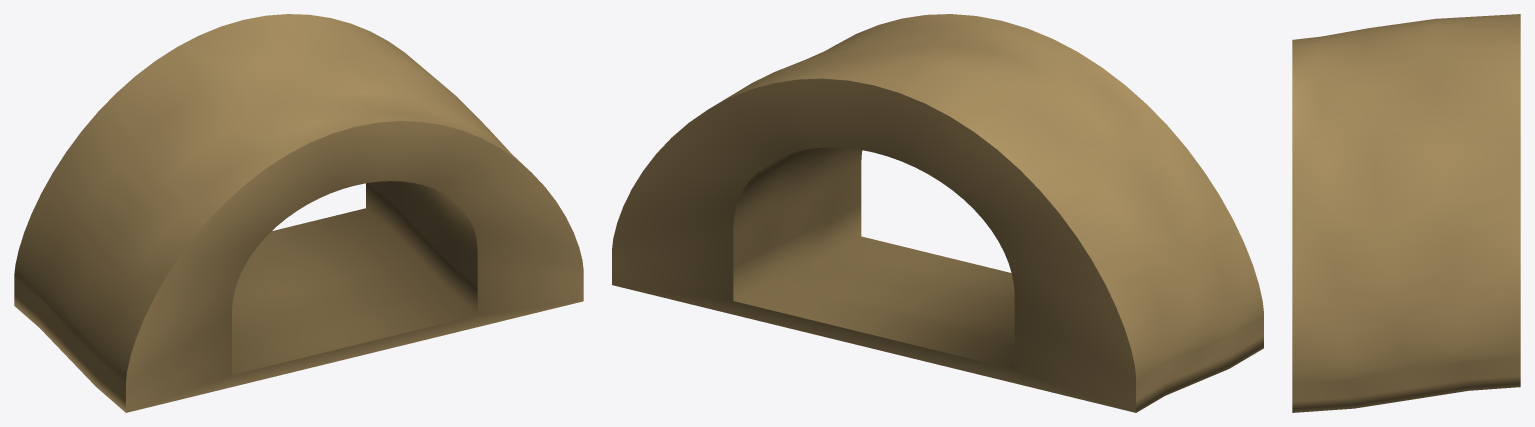
File: grade_up_terrain_lod1.glb
The picture shows the model from 3 angles, left to right: view 1: azimuth 30°, elevation 25°; view 2: azimuth 150°, elevation 25°; view 3: azimuth 270°, elevation 25°; orthographic projection. The views are drawn at different scales.
Visible parts, largest first — view 1: TerrainRoof.013; view 2: TerrainRoof.013; view 3: TerrainRoof.013.
Boxes of the visible parts, box(x1,y1,x2,y2) form: TerrainRoof.013: box(14, 14, 583, 412); TerrainRoof.013: box(612, 14, 1263, 412); TerrainRoof.013: box(1292, 14, 1520, 412).
Bounding box in the file's own units: 28.4 × 15.15 × 12.
